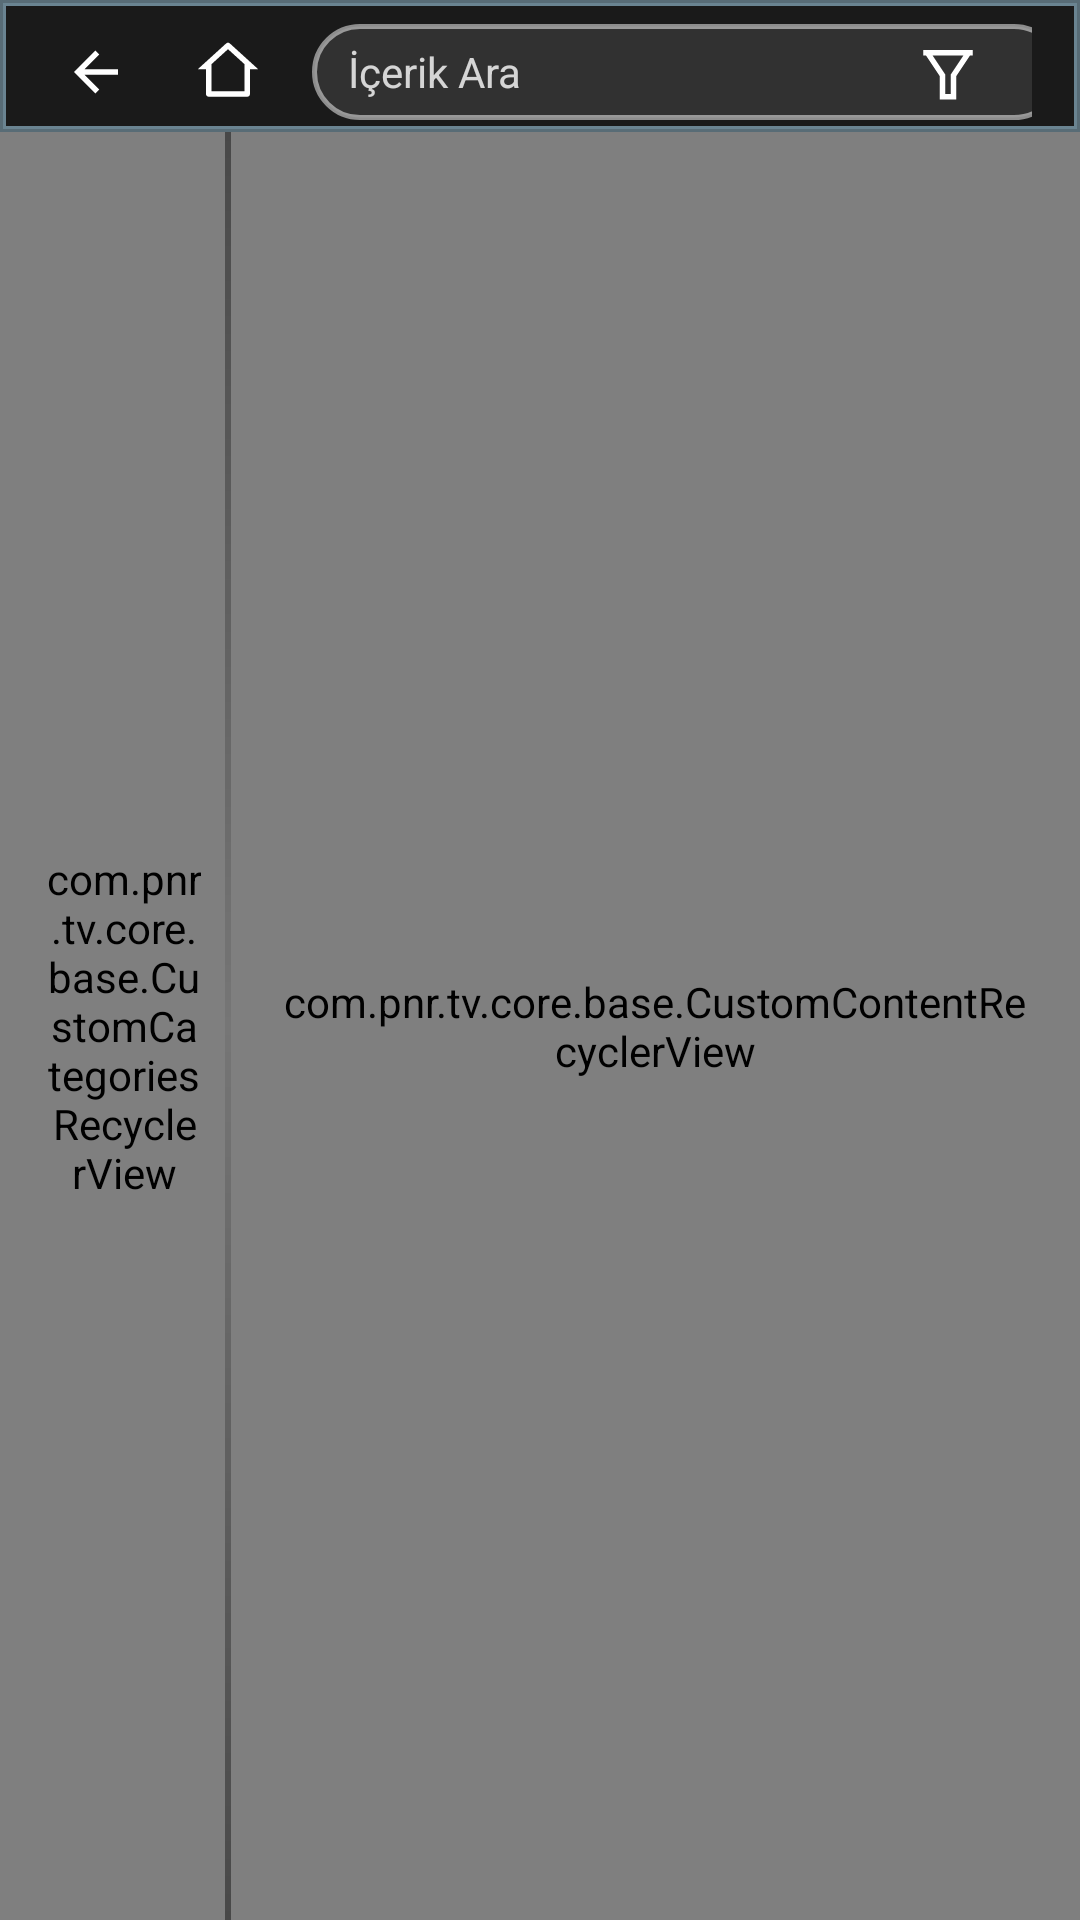

Screen size 1080px×1920px. Icon name, then its center in pixels as [x,y]:
Ana sayfaya git: [228,69]
Filtre: [948,72]
Geri dön: [96,72]
